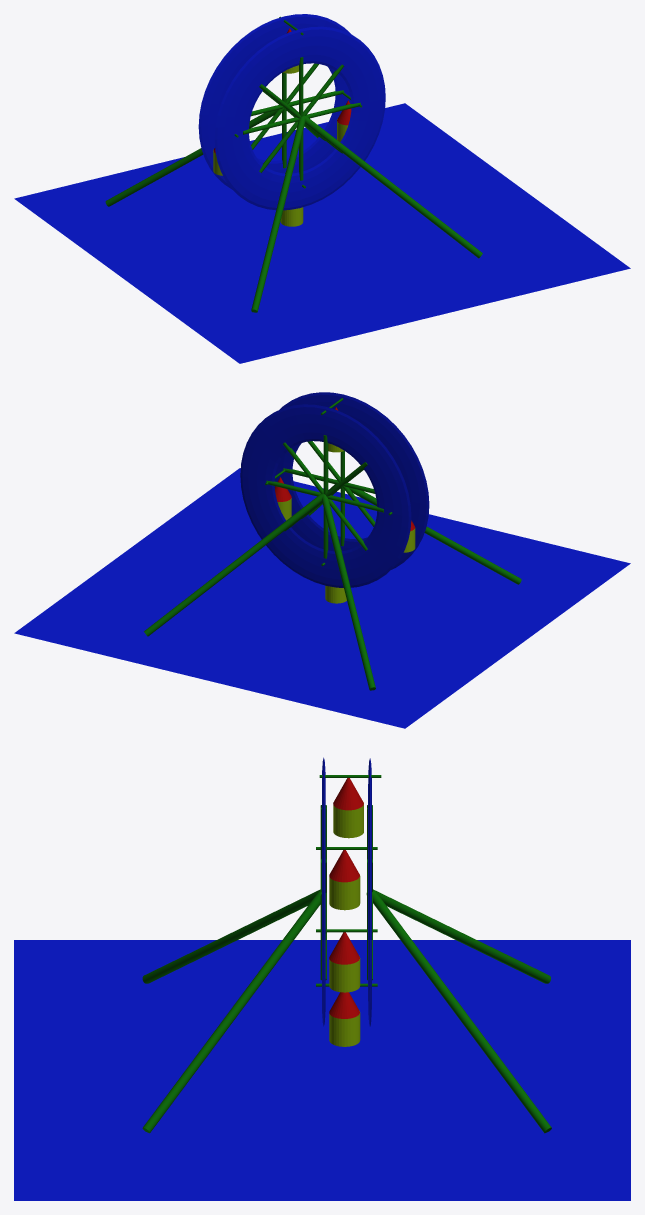
The model's file is RuedaFortuna.obj.
The picture shows the model from 3 angles, top to bottom: view 1: azimuth 30°, elevation 25°; view 2: azimuth 150°, elevation 25°; view 3: azimuth 270°, elevation 25°; orthographic projection. The views are drawn at different scales.
Visible parts, largest first — view 1: Wheel.007_Cylinder.012, Wheel.008_Cylinder.013, Cylinder.005_Cylinder.019, Cylinder.002_Cylinder.023; view 2: Wheel.007_Cylinder.012, Wheel.008_Cylinder.013, Cylinder.005_Cylinder.019, Cylinder.002_Cylinder.023; view 3: Wheel.007_Cylinder.012, Cylinder.005_Cylinder.019, Cylinder.002_Cylinder.023, Cylinder.006_Cylinder.020, Wheel.008_Cylinder.013.
Part boxes in pixels (box(x1,y1,x2,y2)): Wheel.007_Cylinder.012: box(14, 103, 630, 363); Wheel.008_Cylinder.013: box(198, 14, 385, 210); Cylinder.005_Cylinder.019: box(105, 16, 482, 312); Cylinder.002_Cylinder.023: box(213, 65, 347, 226); Wheel.007_Cylinder.012: box(14, 468, 630, 728); Wheel.008_Cylinder.013: box(240, 392, 429, 587); Cylinder.005_Cylinder.019: box(144, 398, 521, 690); Cylinder.002_Cylinder.023: box(277, 443, 415, 603); Wheel.007_Cylinder.012: box(14, 940, 630, 1200); Cylinder.005_Cylinder.019: box(142, 775, 551, 1133); Cylinder.002_Cylinder.023: box(329, 802, 363, 1046); Cylinder.006_Cylinder.020: box(329, 778, 363, 1018); Wheel.008_Cylinder.013: box(322, 757, 371, 1026).
Size of the model in its own units: 40 by 20.54 by 40.
